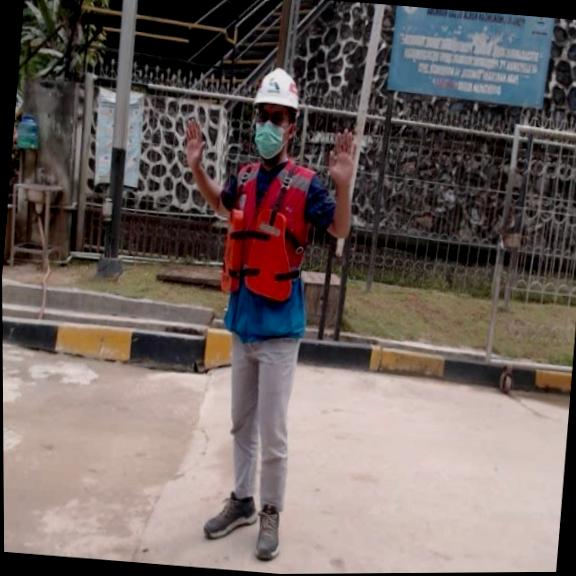safety_vest: (214, 201, 303, 306)
